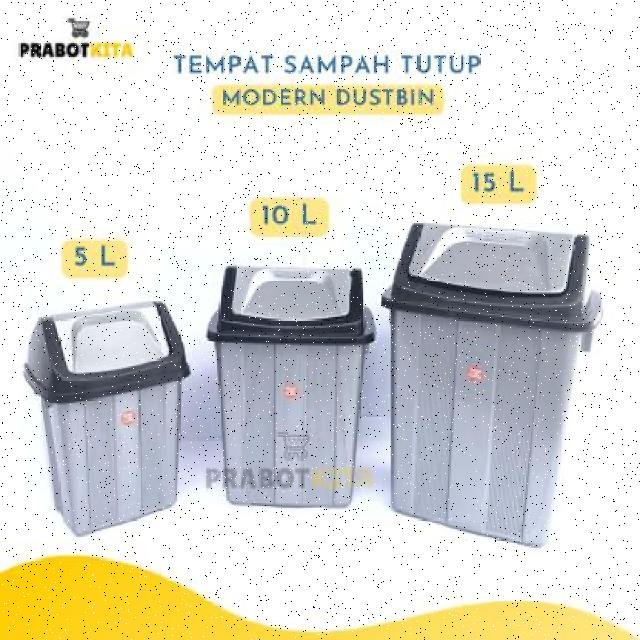garbage container: (376, 215, 609, 562), (202, 261, 378, 522), (18, 290, 198, 542)
